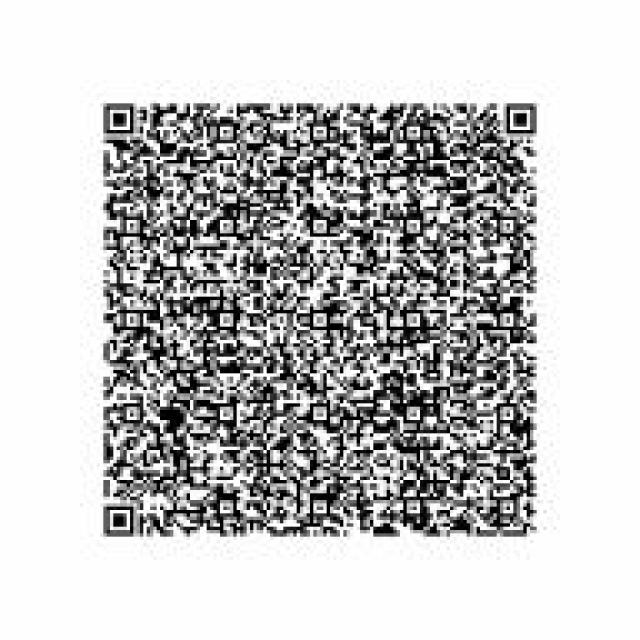QR_CODE: (73, 73, 545, 567)
